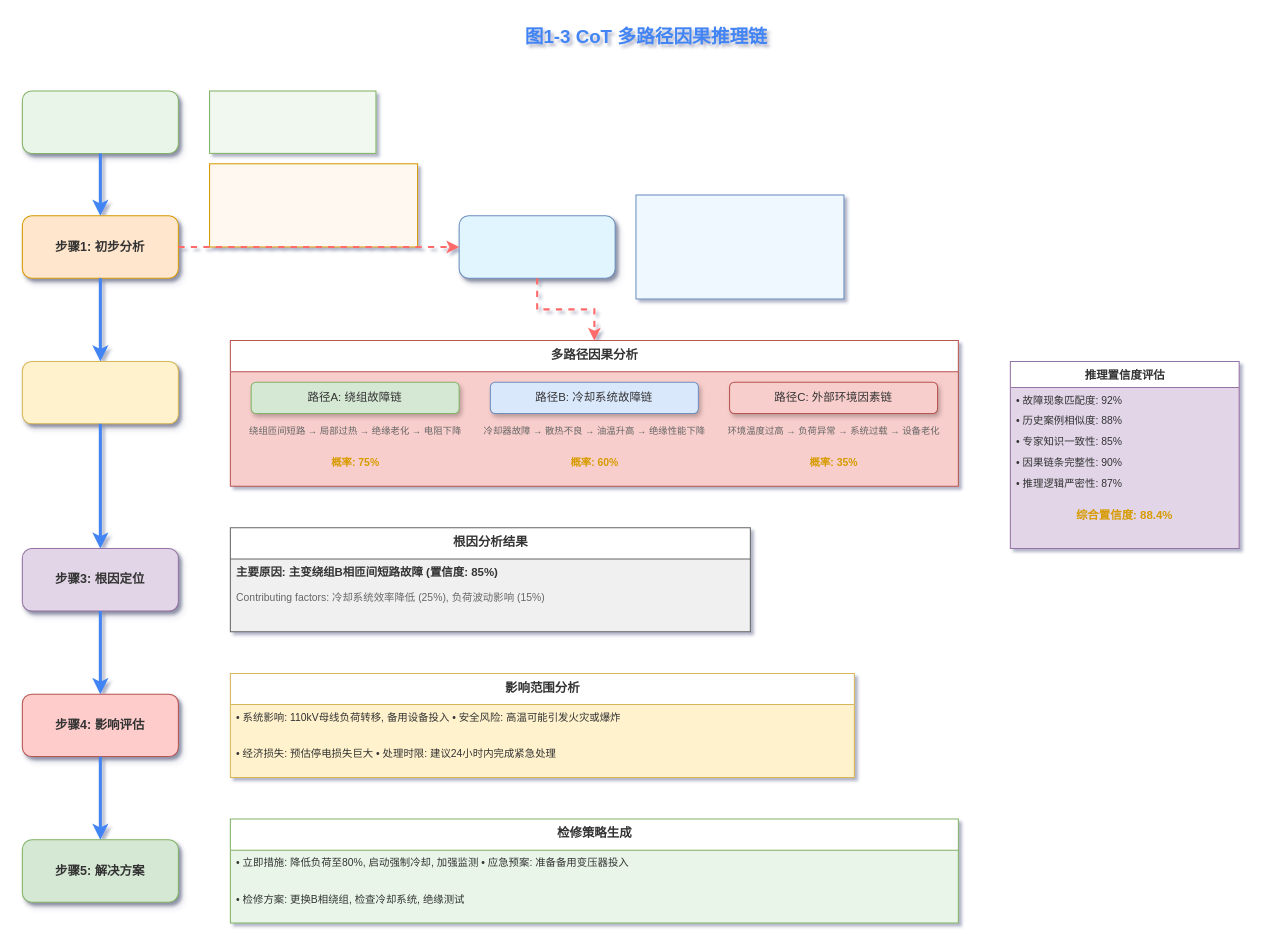
Image size: 1264x950. Some labels were removed from this diagram. Each missing label, with the centre of its shape:
RAG知识检索: [537,248]
主变压器油温异常升高 绝缘电阻值下降 异常声响: [292,121]
思维链推理: 1. 识别关键症状特征 2. 关联历史相似案例 3. 初步故障类型判断: [313,205]
故障现象观察: [101,123]
检索到相关知识: • 变压器绕组故障案例 • 绝缘系统老化机理 • 温升异常处理规程: [739,246]
步骤2: 深入分析: [101,393]
